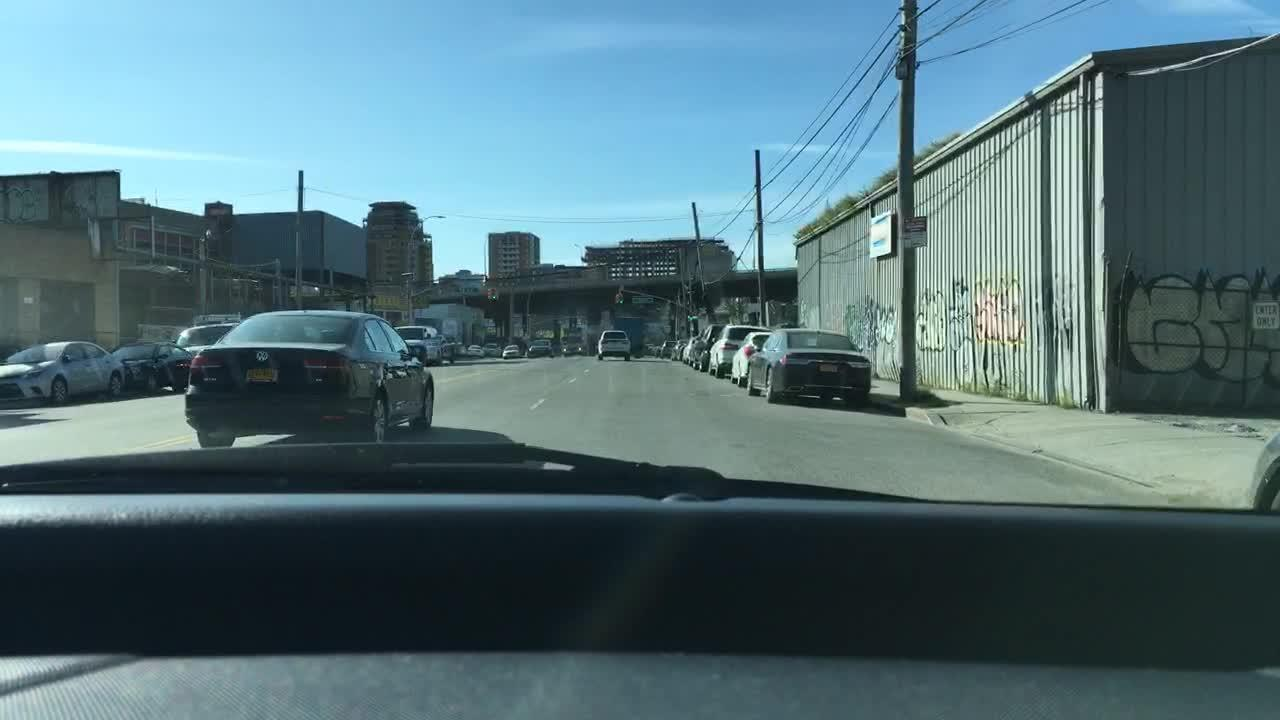Volkswagen: (248, 346, 273, 367)
